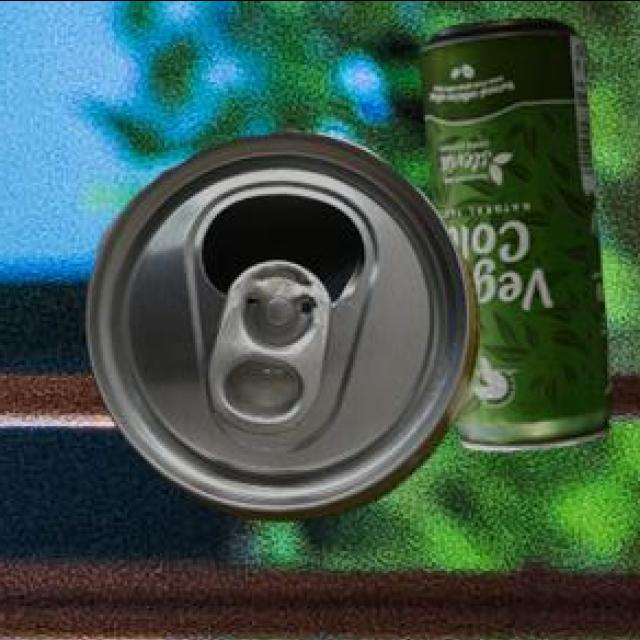logam: (89, 126, 483, 516), (424, 14, 615, 446)
